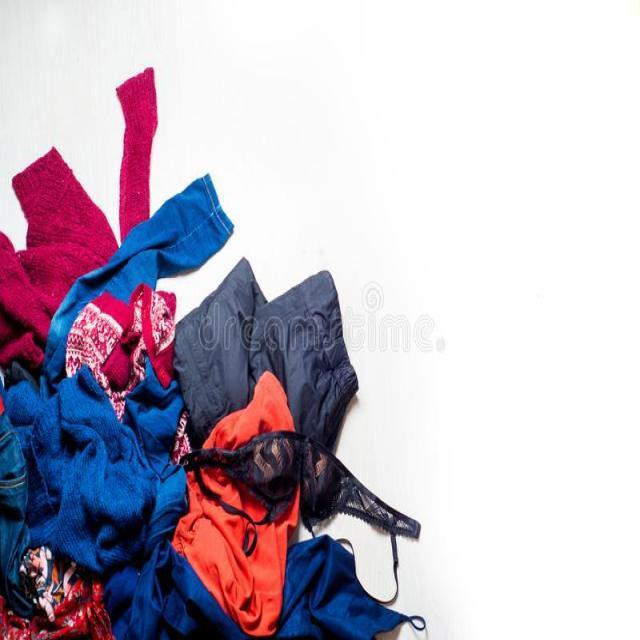clothes: (6, 130, 348, 640)
